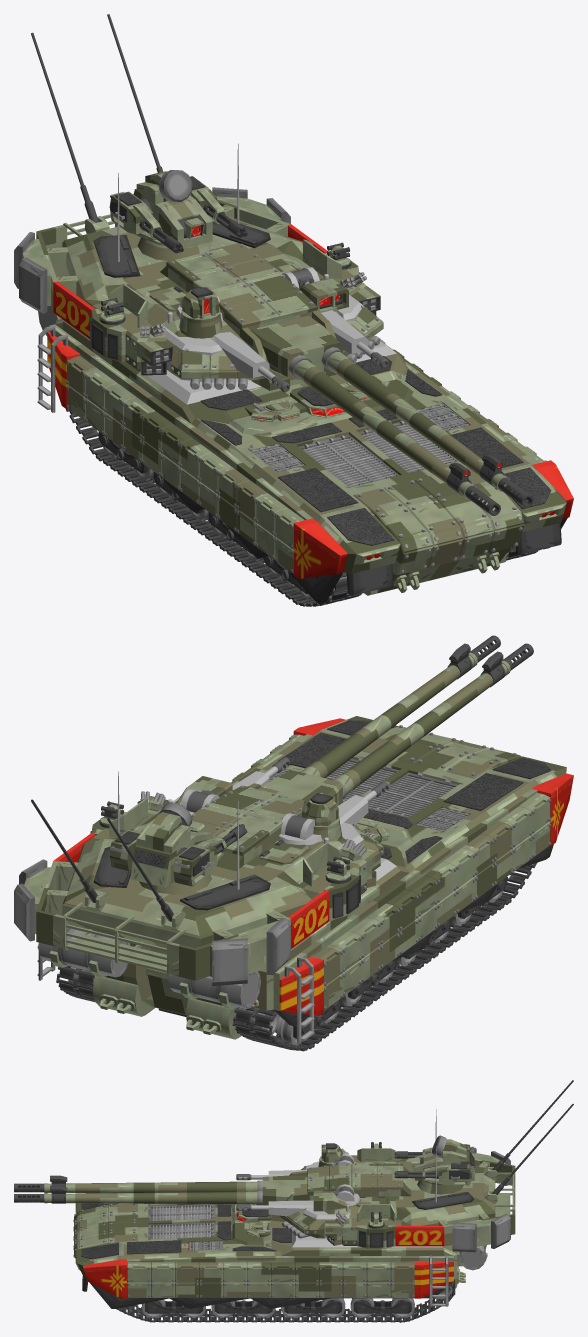
The picture shows the model from 3 angles, top to bottom: view 1: azimuth 30°, elevation 25°; view 2: azimuth 150°, elevation 25°; view 3: azimuth 270°, elevation 25°; orthographic projection. The views are drawn at different scales.
Parts seen in each view (by area): view 1: Turret_Body, ERA_Side, Chessis, Era_Front3, GunBarrel_R (×2), Plate, GunHead, Side_Plate, Track_R_Static, Engint_Slate, Top_Shield, Gun_Cap (+13 smaller); view 2: Turret_Body, ERA_Side, Chessis, GunBarrel_R (×2), Side_Plate, Track_R_Static, Plate, Rear_Part, GunHead, MainBody_Weapon, Era_Front3, Engint_Slate (+13 smaller); view 3: Turret_Body, ERA_Side, GunBarrel_R (×2), Chessis, Side_Plate, Wheel_Part, GunHead, Track_L_Static, Era_Front3, Plate, Engint_Slate, MainBody_Weapon (+10 smaller).
Boxes of the visible parts, x1=… form: Turret_Body: x1=14, y1=14, x2=383, y2=389; ERA_Side: x1=37, y1=325, x2=573, y2=578; Chessis: x1=55, y1=319, x2=566, y2=595; Era_Front3: x1=353, y1=467, x2=524, y2=574; GunBarrel_R (×2): x1=294, y1=352, x2=533, y2=515; Plate: x1=200, y1=356, x2=551, y2=545; GunHead: x1=160, y1=243, x2=336, y2=390; Side_Plate: x1=49, y1=324, x2=572, y2=603; Track_R_Static: x1=66, y1=409, x2=363, y2=606; Engint_Slate: x1=299, y1=421, x2=457, y2=487; Top_Shield: x1=187, y1=353, x2=413, y2=437; Gun_Cap: x1=250, y1=315, x2=345, y2=379; Turret_Body: x1=14, y1=785, x2=383, y2=985; ERA_Side: x1=37, y1=718, x2=573, y2=1043; Chessis: x1=92, y1=716, x2=566, y2=1039; GunBarrel_R (×2): x1=301, y1=635, x2=533, y2=795; Side_Plate: x1=66, y1=718, x2=571, y2=1026; Track_R_Static: x1=232, y1=862, x2=537, y2=1051; Plate: x1=278, y1=720, x2=551, y2=863; Rear_Part: x1=38, y1=927, x2=260, y2=1034; GunHead: x1=192, y1=783, x2=304, y2=870; MainBody_Weapon: x1=130, y1=802, x2=212, y2=887; Era_Front3: x1=361, y1=725, x2=521, y2=778; Engint_Slate: x1=325, y1=757, x2=457, y2=817; Turret_Body: x1=279, y1=1080, x2=573, y2=1252; ERA_Side: x1=83, y1=1255, x2=453, y2=1306; GunBarrel_R (×2): x1=14, y1=1175, x2=257, y2=1204; Chessis: x1=77, y1=1203, x2=458, y2=1288; Side_Plate: x1=83, y1=1256, x2=453, y2=1308; Wheel_Part: x1=141, y1=1284, x2=452, y2=1318; GunHead: x1=272, y1=1163, x2=411, y2=1221; Track_L_Static: x1=116, y1=1279, x2=455, y2=1322; Era_Front3: x1=73, y1=1203, x2=137, y2=1258; Plate: x1=81, y1=1203, x2=291, y2=1259; Engint_Slate: x1=148, y1=1204, x2=215, y2=1239; MainBody_Weapon: x1=415, y1=1135, x2=474, y2=1180.
Size of the model in its own units: 70.11 by 78.36 by 201.
18 materials, 10 textured.
